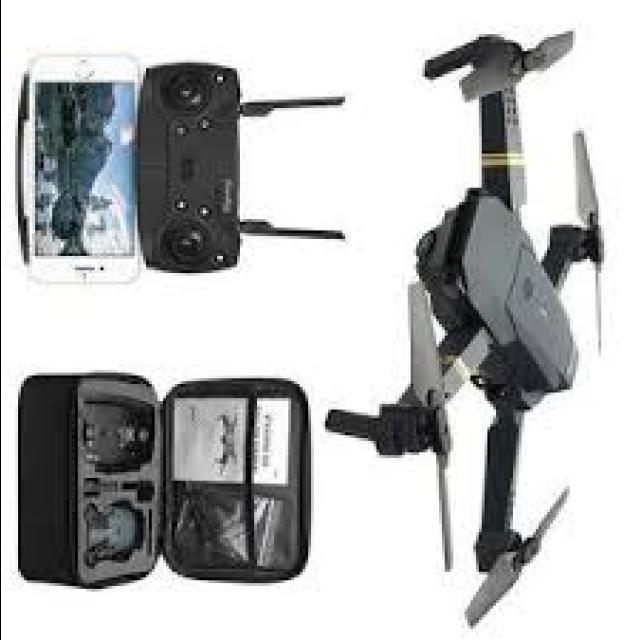drone: (321, 8, 618, 640)
